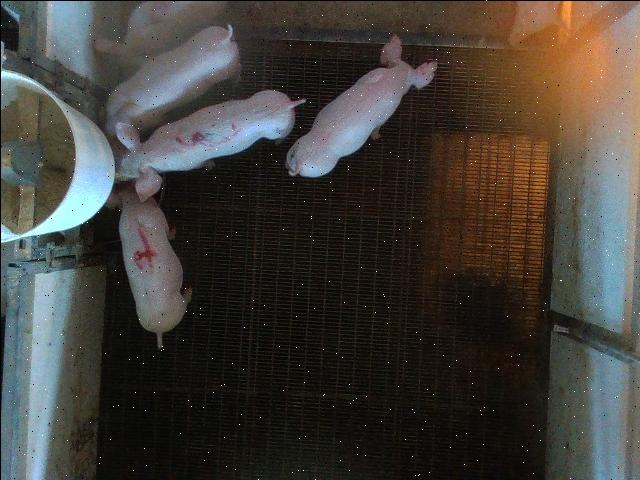pig-3: (115, 89, 304, 201)
pig-4: (108, 186, 191, 348)
